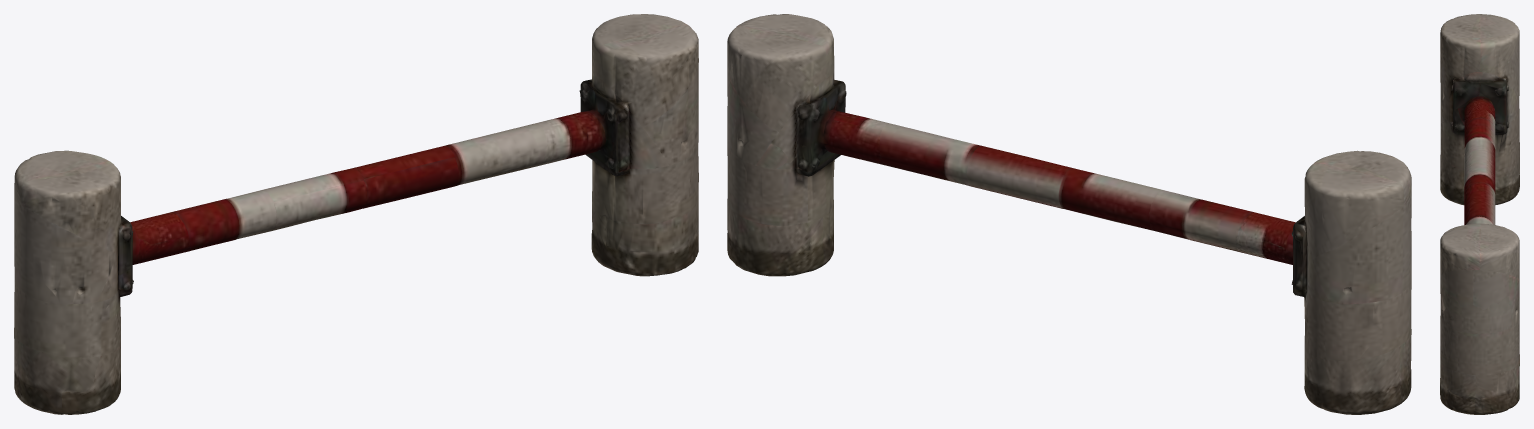
File: veh-j-lowbar.glb
The picture shows the model from 3 angles, left to right: view 1: azimuth 30°, elevation 25°; view 2: azimuth 150°, elevation 25°; view 3: azimuth 270°, elevation 25°; orthographic projection. The views are drawn at different scales.
Visible parts, largest first — view 1: tripo_node_e53ddbef-00b6-41c2-8a03-4cefbe3de29d; view 2: tripo_node_e53ddbef-00b6-41c2-8a03-4cefbe3de29d; view 3: tripo_node_e53ddbef-00b6-41c2-8a03-4cefbe3de29d.
Part boxes in pixels (x1,y1,x2,y2): tripo_node_e53ddbef-00b6-41c2-8a03-4cefbe3de29d: (14,14,698,414); tripo_node_e53ddbef-00b6-41c2-8a03-4cefbe3de29d: (727,14,1411,414); tripo_node_e53ddbef-00b6-41c2-8a03-4cefbe3de29d: (1440,14,1519,414).
Size of the model in its own units: 0.9796 by 0.3142 by 0.1378.
1 material, 1 textured.
